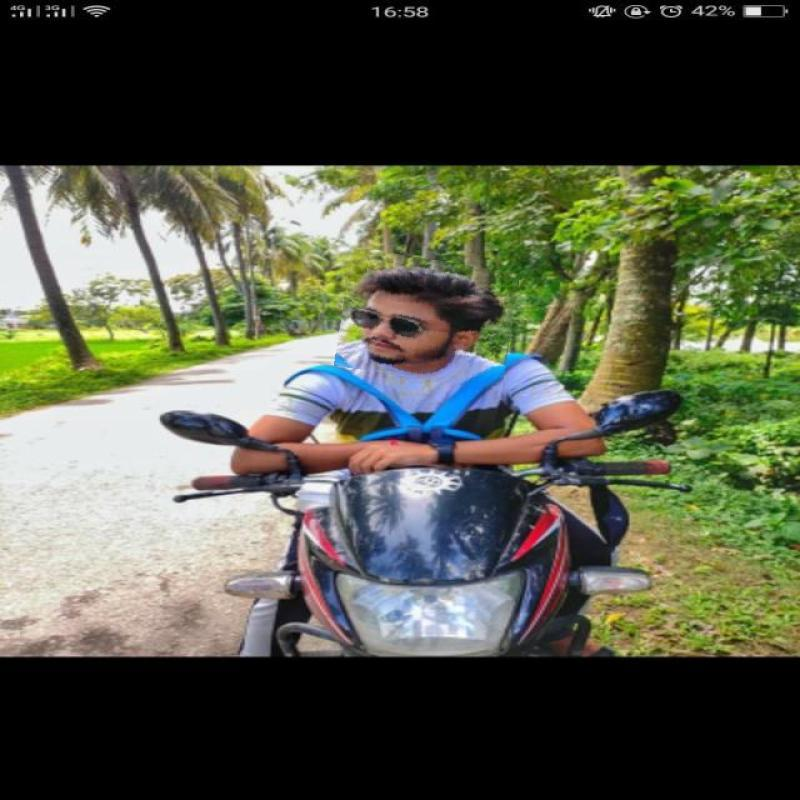nohelmet: (338, 254, 516, 386)
